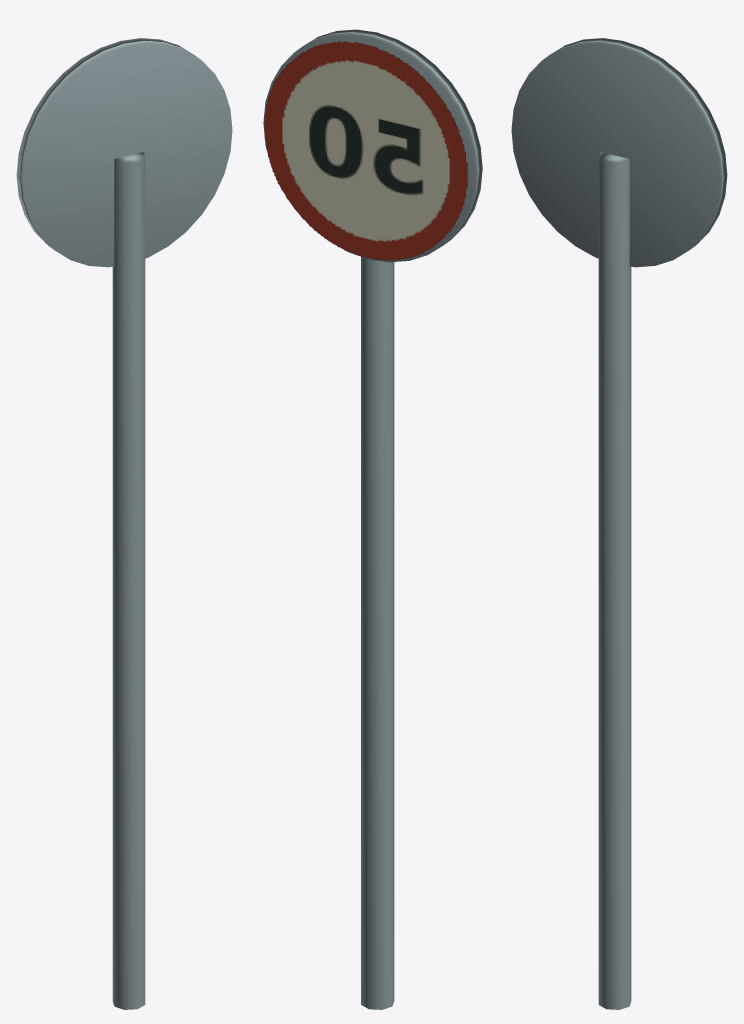
The model's file is road_sign_speed.glb.
3 views of the same model, side by side, from view 1: azimuth 30°, elevation 25°; view 2: azimuth 150°, elevation 25°; view 3: azimuth 330°, elevation 25° (orthographic).
Parts seen in each view (by area): view 1: sign_back, pole; view 2: speed_limit_50, pole, sign_back; view 3: sign_back, pole.
Part boxes in pixels (left/top/right/bottom): sign_back: left=16, top=38, right=232, bottom=267; pole: left=112, top=152, right=145, bottom=1009; speed_limit_50: left=264, top=41, right=467, bottom=260; pole: left=361, top=256, right=394, bottom=1009; sign_back: left=263, top=29, right=482, bottom=262; sign_back: left=511, top=38, right=727, bottom=267; pole: left=598, top=152, right=631, bottom=1009.
Bounding box in the file's own units: 0.54 × 2.37 × 0.085.
2 materials, 1 textured.
